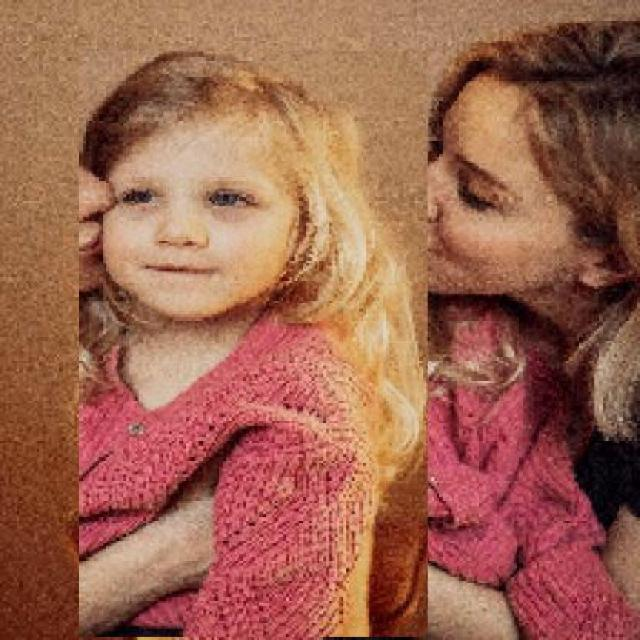child: (79, 51, 428, 638)
